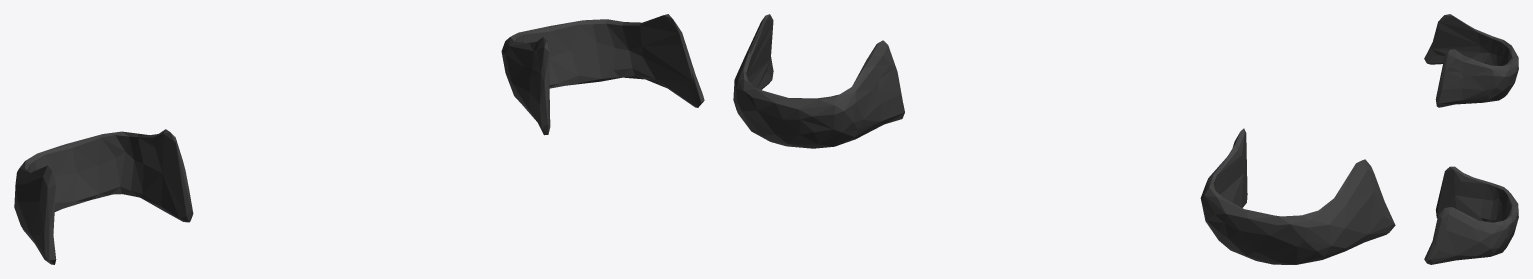
Rendered from lig_anular_palmar_FL.glb.
3 views of the same model, side by side, from view 1: azimuth 30°, elevation 25°; view 2: azimuth 150°, elevation 25°; view 3: azimuth 270°, elevation 25° (orthographic). The views are drawn at different scales.
Visible parts, largest first — view 1: lig_anular_palmar_FL; view 2: lig_anular_palmar_FL; view 3: lig_anular_palmar_FL.
Boxes of the visible parts, bbox=[...] form: lig_anular_palmar_FL: bbox=[14, 14, 704, 264]; lig_anular_palmar_FL: bbox=[733, 14, 1395, 264]; lig_anular_palmar_FL: bbox=[1424, 14, 1518, 264].
Size of the model in its own units: 0.00426 by 0.000574 by 0.000835.
1 material, 1 textured.
